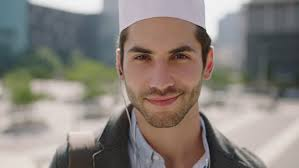middle_eastern_male: (115, 14, 216, 123)
